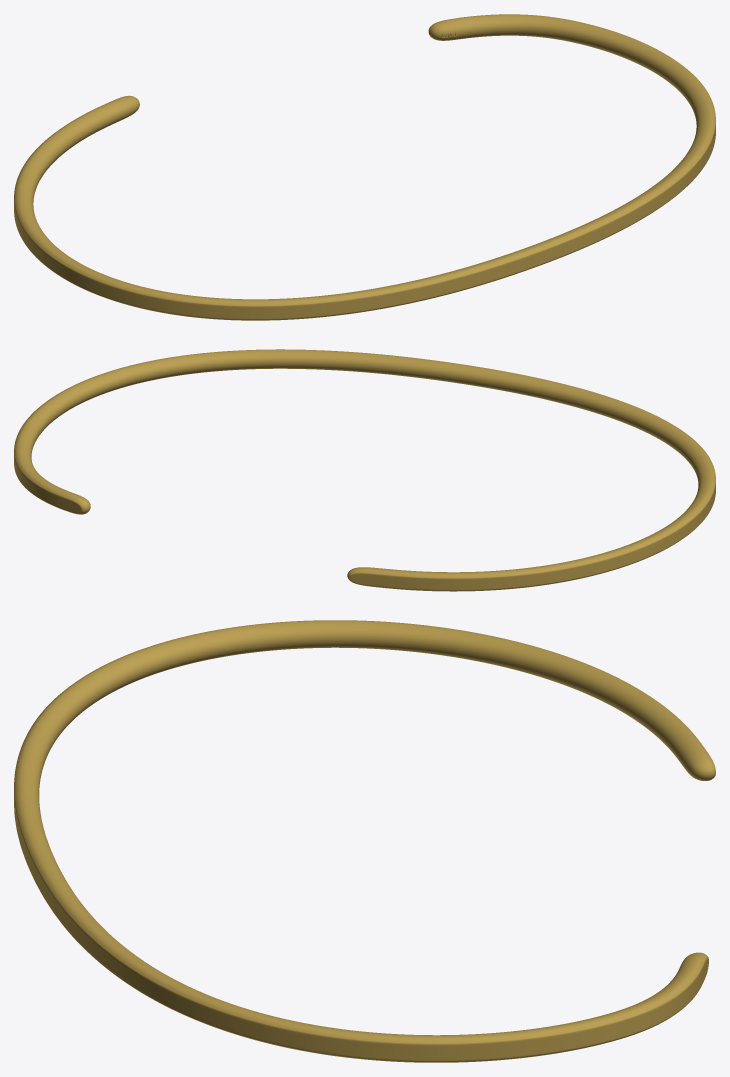
Rendered from light-gold24_clrea.glb.
3 views of the same model, one above another, from view 1: azimuth 30°, elevation 25°; view 2: azimuth 150°, elevation 25°; view 3: azimuth 270°, elevation 25° (orthographic). The views are drawn at different scales.
Parts seen in each view (by area): view 1: lightbody.005; view 2: lightbody.005; view 3: lightbody.005.
Boxes of the visible parts, bbox=[...] form: lightbody.005: bbox=[14, 14, 715, 320]; lightbody.005: bbox=[14, 349, 715, 591]; lightbody.005: bbox=[14, 620, 715, 1062].
Size of the model in its own units: 3.4 by 0.0938 by 2.38.
1 material, 1 textured.
